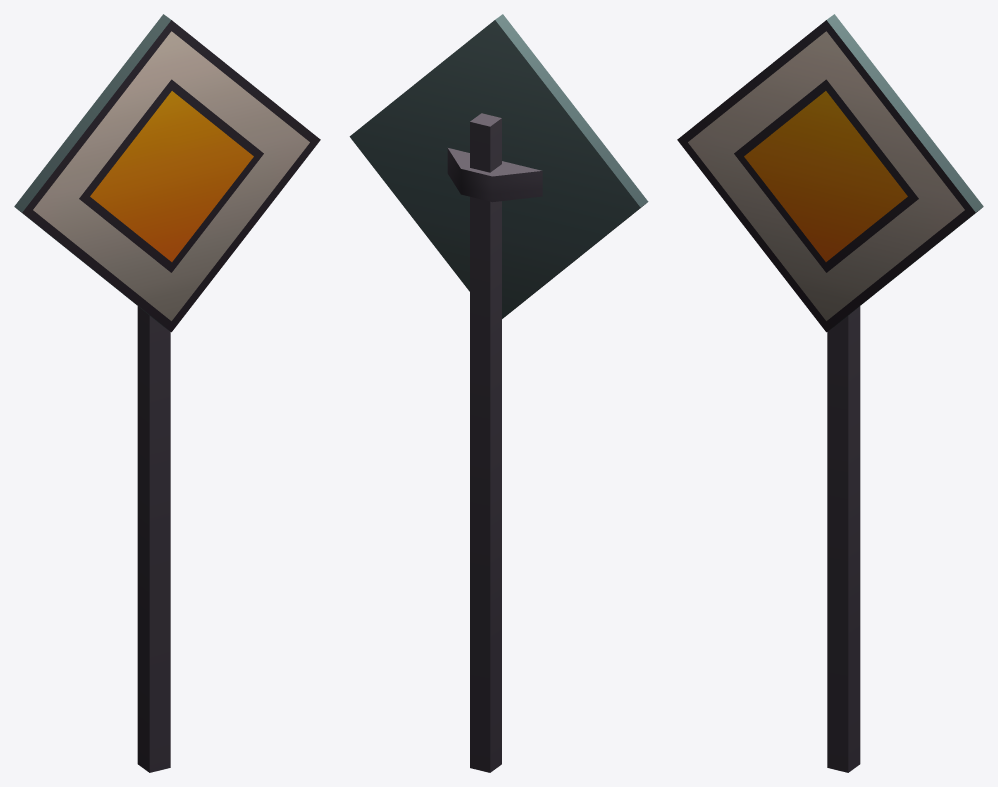
Rendered from Streetsign_2C.fbx.
3 renders of one model, left to right at view 1: azimuth 30°, elevation 25°; view 2: azimuth 150°, elevation 25°; view 3: azimuth 330°, elevation 25°, orthographic. The views are drawn at different scales.
Parts seen in each view (by area): view 1: Streetsign_2C; view 2: Streetsign_2C; view 3: Streetsign_2C.
Part boxes in pixels (x1,y1,x2,y2): Streetsign_2C: (14,14,320,772); Streetsign_2C: (349,14,648,772); Streetsign_2C: (677,14,983,772).
Bounding box in the file's own units: 127 × 309 × 20.15.
